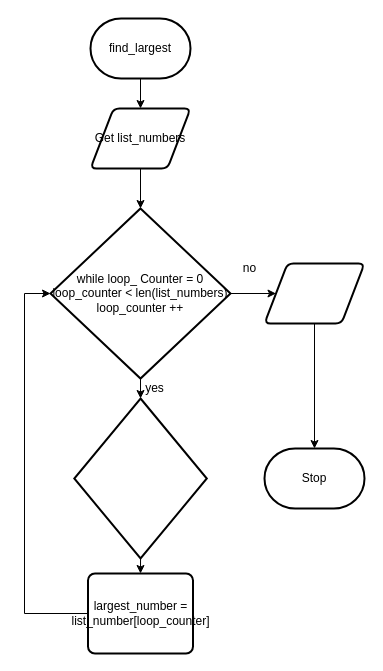
The diagram is 383 pixels wide and 671 high, and some of its shapes have lost their labels. The shapes that lost their labels are listed below. From the top down, each one's centre as x and y in pixels, then its label:
At [314,293]: "return largest_number".
At [140,478]: "if list_numbers[loop_counter] > largest_number".
